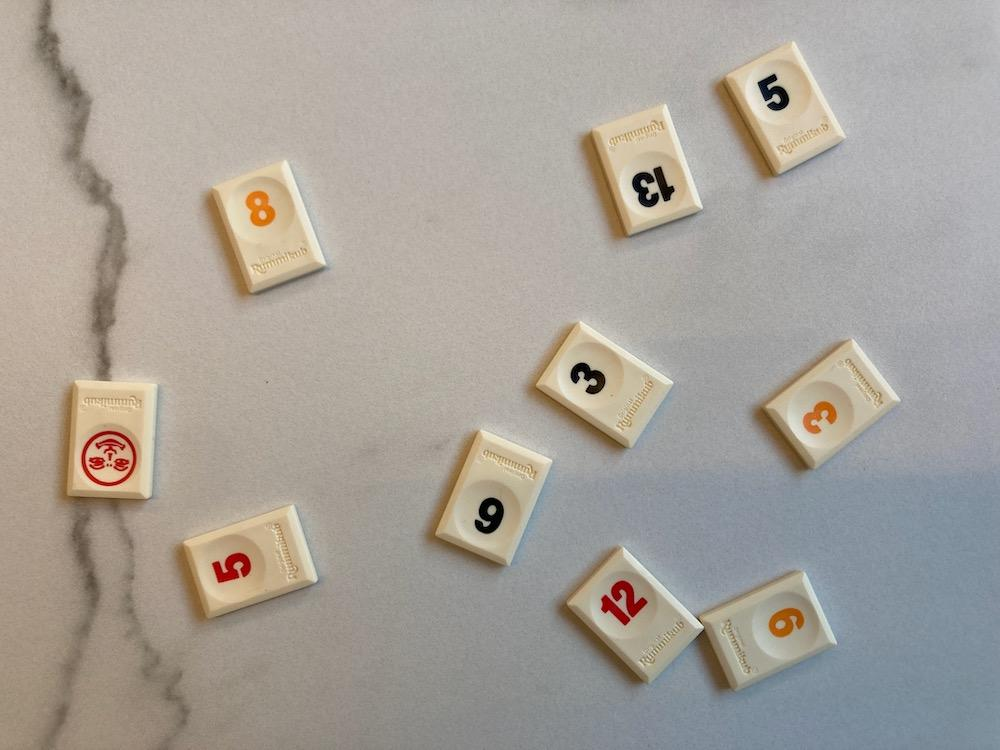black_13: (592, 105, 701, 234)
black_3: (539, 322, 672, 447)
black_5: (725, 41, 846, 176)
black_6: (436, 430, 551, 564)
joker: (68, 381, 158, 498)
orange_3: (764, 340, 900, 469)
orange_6: (699, 570, 836, 691)
orange_8: (214, 160, 326, 293)
red_12: (568, 549, 703, 682)
red_5: (184, 506, 318, 617)
